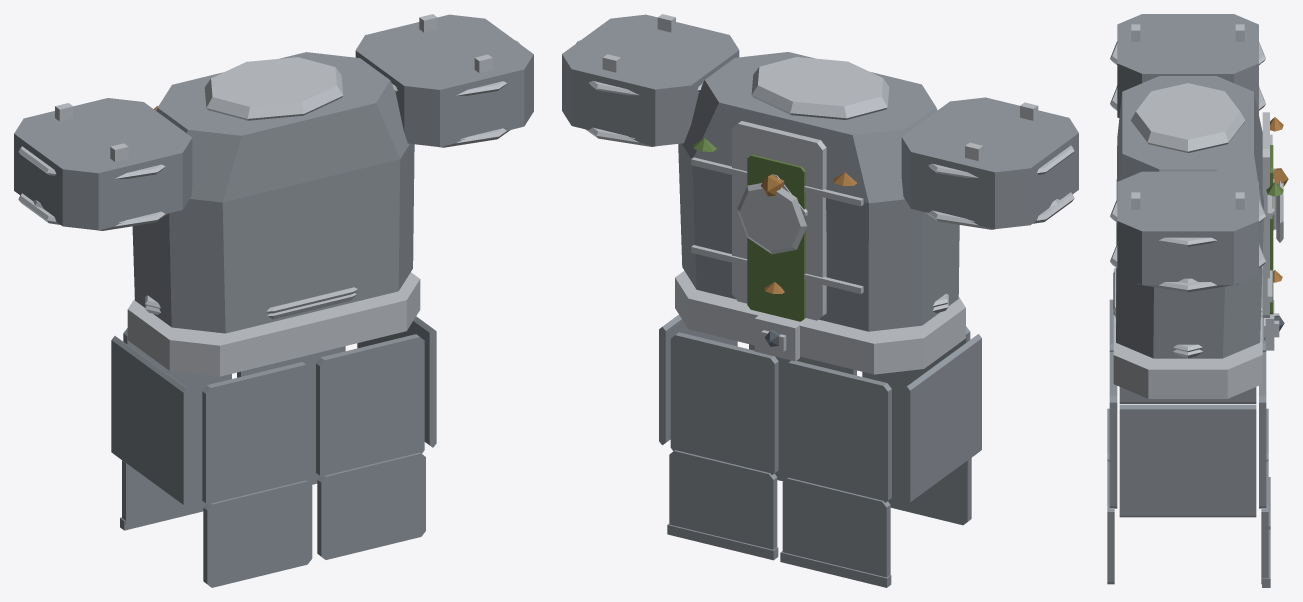
Rendered from armor_healer_s3.fbx.
3 views of the same model, side by side, from view 1: azimuth 30°, elevation 25°; view 2: azimuth 150°, elevation 25°; view 3: azimuth 270°, elevation 25° (orthographic). The views are drawn at different scales.
Visible parts, largest first — view 1: Chest_Body, Tasset_L_Body, Tasset_R_Body, Chest_Trim, Shoulder_L_Body, Shoulder_R_Body, Shoulder_L_Trim, Shoulder_R_Trim, Chest_Trim_Ep; view 2: Tasset_L_Body, Chest_Body, Chest_Trim, Tasset_R_Body, Shoulder_L_Body, Shoulder_R_Body, Chest_Attach, Shoulder_L_Trim, Shoulder_R_Trim; view 3: Tasset_R_Body, Chest_Body, Chest_Trim, Shoulder_R_Body, Shoulder_L_Body, Tasset_L_Body, Shoulder_R_Trim, Shoulder_L_Trim, Chest_Attach, Chest_Trim_Ep.
Part boxes in pixels (x1,y1,x2,y2): Chest_Body: (132, 52, 414, 333); Tasset_L_Body: (111, 328, 312, 587); Tasset_R_Body: (237, 316, 436, 559); Chest_Trim: (127, 57, 420, 376); Shoulder_L_Body: (14, 98, 192, 230); Shoulder_R_Body: (355, 14, 533, 146); Shoulder_L_Trim: (18, 103, 168, 230); Shoulder_R_Trim: (392, 14, 519, 147); Chest_Trim_Ep: (145, 287, 357, 313); Tasset_L_Body: (780, 326, 981, 587); Chest_Body: (678, 52, 959, 331); Chest_Trim: (675, 57, 965, 374); Tasset_R_Body: (659, 315, 856, 560); Shoulder_L_Body: (901, 97, 1078, 229); Shoulder_R_Body: (562, 14, 739, 146); Chest_Attach: (693, 138, 805, 321); Shoulder_L_Trim: (925, 102, 1074, 229); Shoulder_R_Trim: (576, 14, 702, 146); Tasset_R_Body: (1107, 352, 1270, 587); Chest_Body: (1116, 76, 1263, 358); Chest_Trim: (1113, 83, 1283, 398); Shoulder_R_Body: (1117, 171, 1258, 285); Shoulder_L_Body: (1117, 14, 1258, 117); Tasset_L_Body: (1107, 299, 1270, 529); Shoulder_R_Trim: (1110, 192, 1265, 292); Shoulder_L_Trim: (1110, 24, 1265, 110); Chest_Attach: (1266, 145, 1283, 314); Chest_Trim_Ep: (1113, 270, 1262, 352).
Size of the model in its own units: 428 by 378 by 146.
